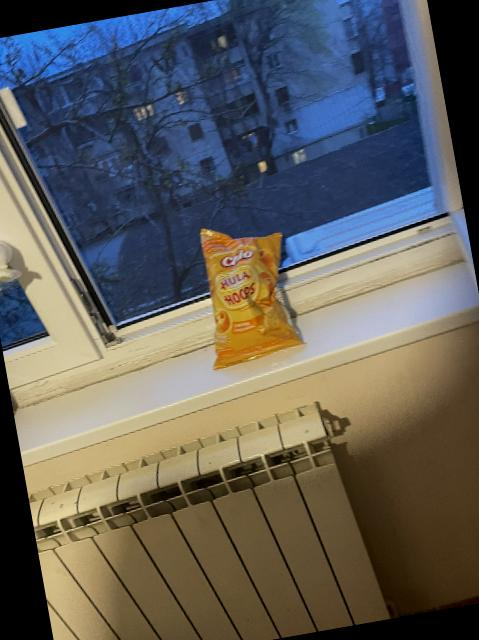Chio Hula Hoops Cheese 70g: (188, 213, 306, 368)
